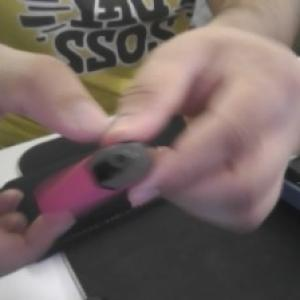Blume-E-Ciggirate: (29, 138, 157, 226)
